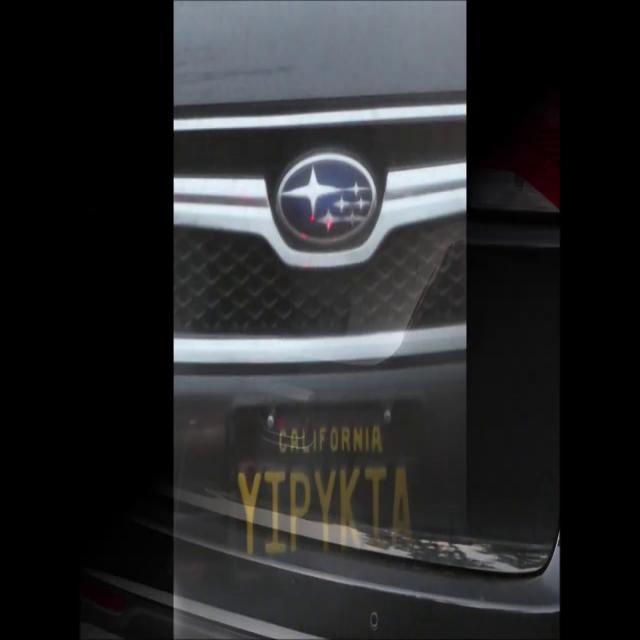licenseplate: (225, 404, 424, 560)
